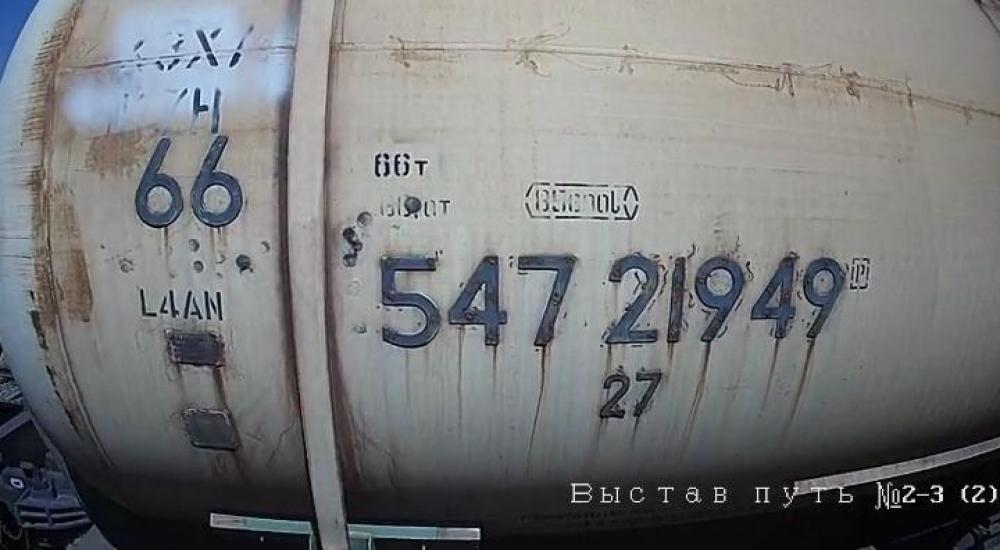Wagon-number: (374, 248, 851, 354)
